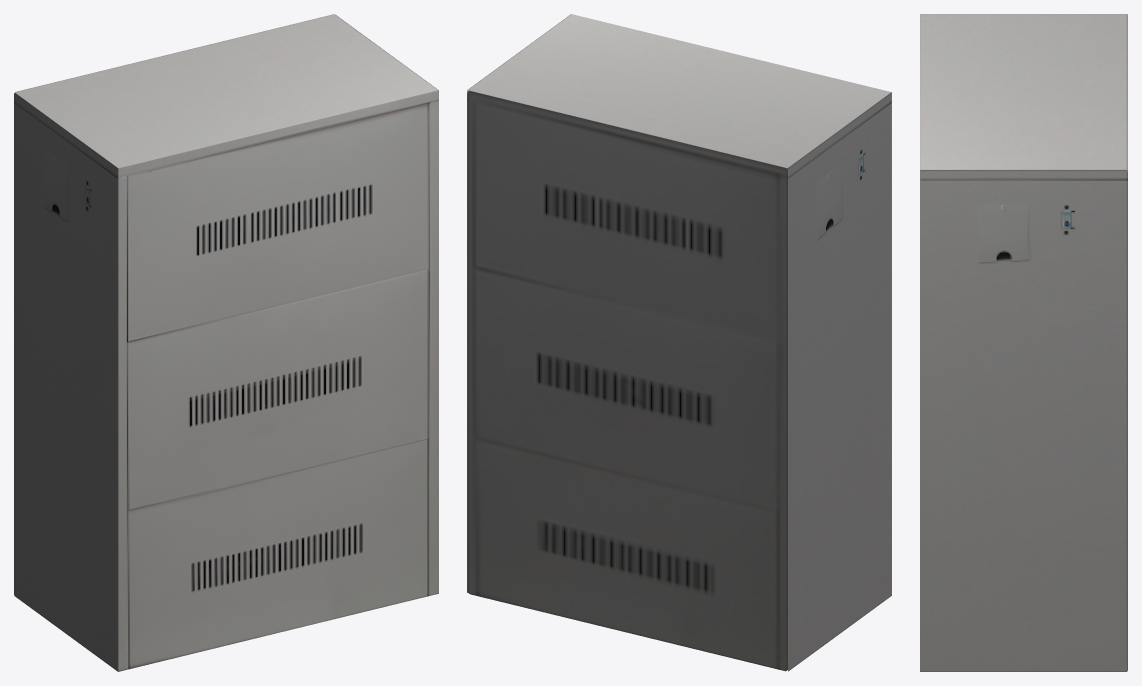
File: UPSdianchizu001.FBX
The picture shows the model from 3 angles, left to right: view 1: azimuth 30°, elevation 25°; view 2: azimuth 150°, elevation 25°; view 3: azimuth 270°, elevation 25°; orthographic projection.
Visible parts, largest first — view 1: UPSdianchizu001_body; view 2: UPSdianchizu001_body; view 3: UPSdianchizu001_body.
Boxes of the visible parts, bbox=[...] form: UPSdianchizu001_body: bbox=[14, 14, 438, 671]; UPSdianchizu001_body: bbox=[467, 14, 891, 671]; UPSdianchizu001_body: bbox=[920, 14, 1127, 671].
Bounding box in the file's own units: 80 × 120 × 45.
